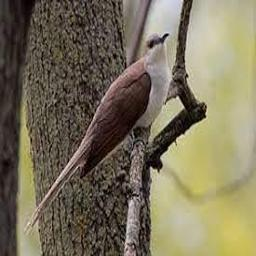Cuckoo: (24, 32, 169, 238)
